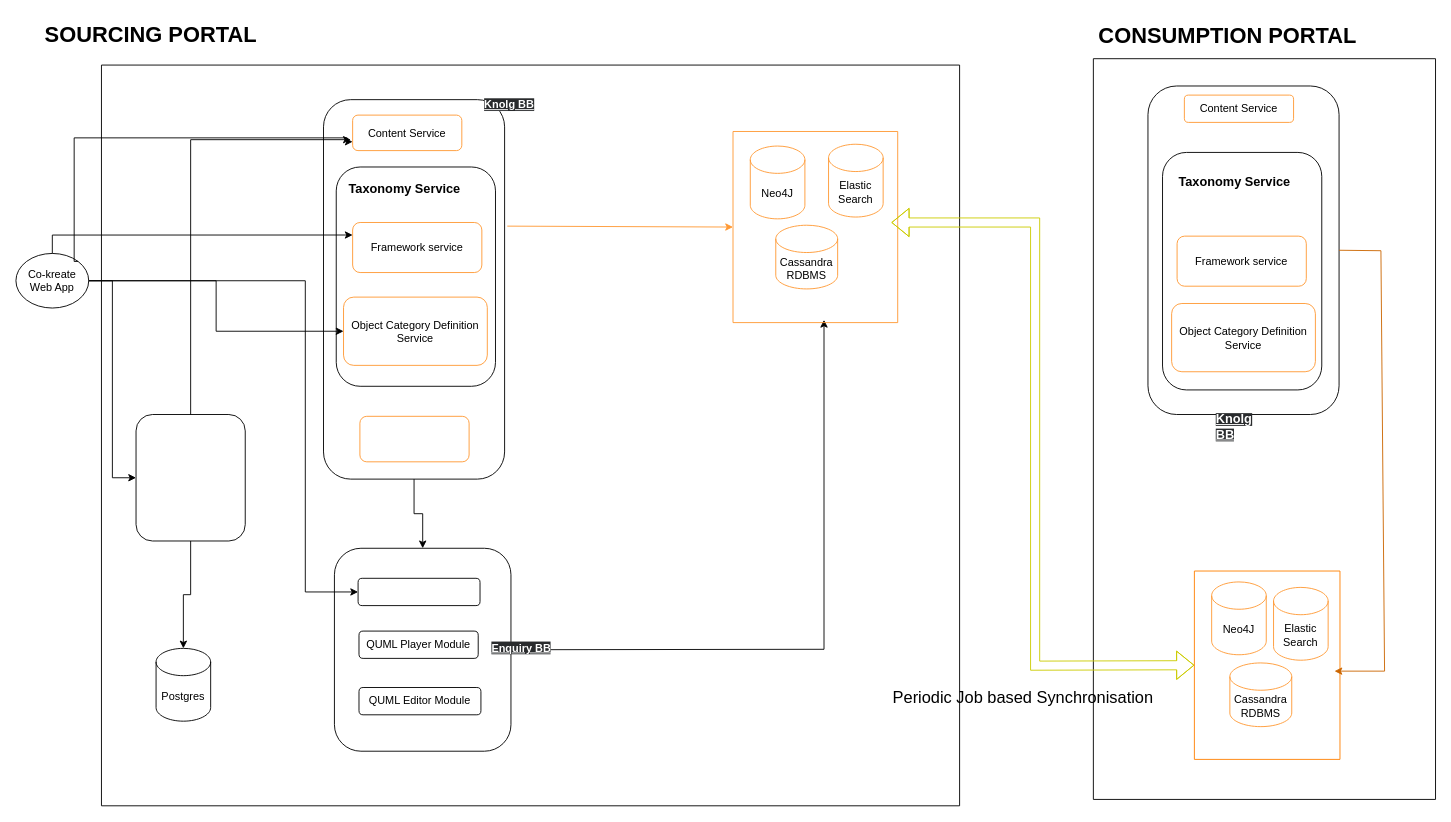
The diagram is 1451 pixels wide and 822 high, and some of its shapes have lost their labels. Here are the shapes that lost their labels. From the top down, the box of each, then its label:
(359, 415, 469, 462): Assessment service
(135, 414, 245, 541): Program Service (Contribution Service)
(357, 577, 480, 606): Question and question set service
